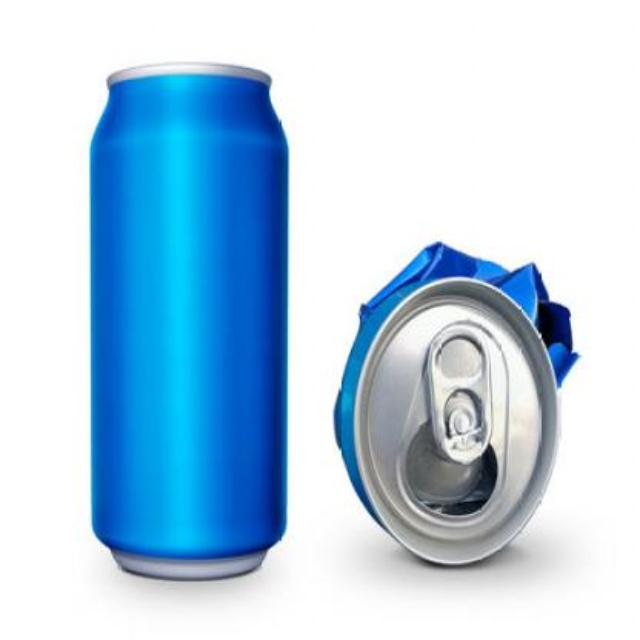metal: (89, 62, 285, 575), (334, 242, 574, 562)
